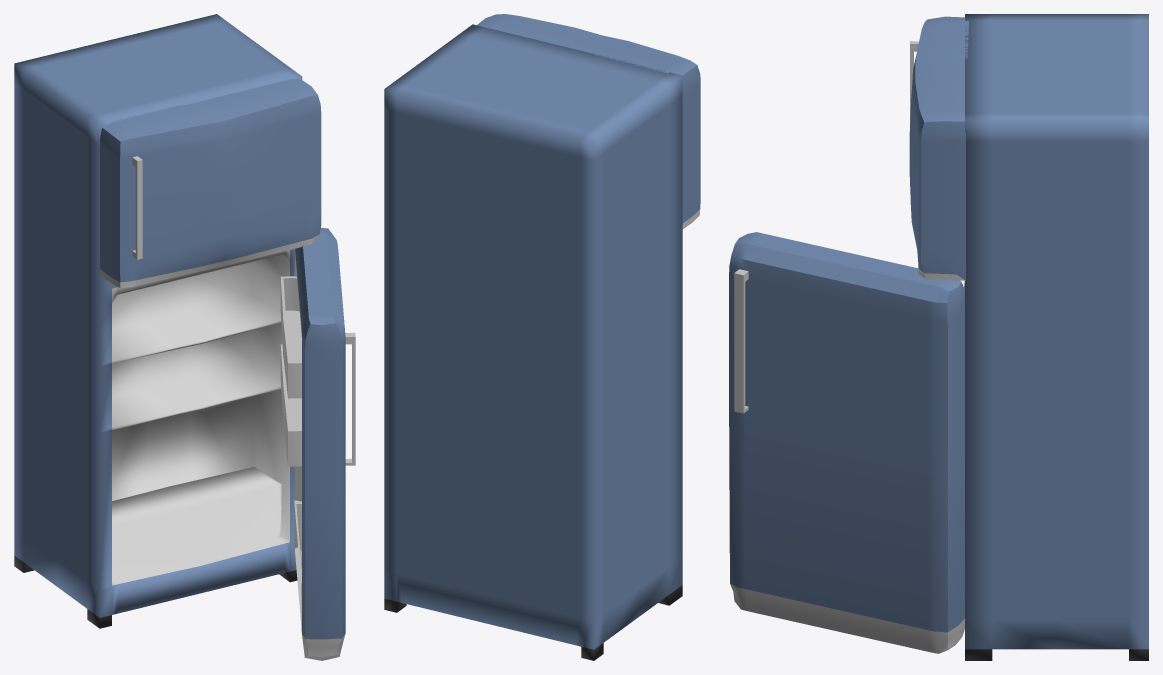
File: fridge_1.fbx
The picture shows the model from 3 angles, left to right: view 1: azimuth 30°, elevation 25°; view 2: azimuth 150°, elevation 25°; view 3: azimuth 270°, elevation 25°; orthographic projection. The views are drawn at different scales.
Visible parts, largest first — view 1: Top Drawer; view 2: Top Drawer; view 3: Top Drawer.
Part boxes in pixels (box(x1,y1,x2,y2)): Top Drawer: box(14, 14, 355, 660); Top Drawer: box(384, 14, 700, 660); Top Drawer: box(729, 14, 1148, 660).
Size of the model in its own units: 566 by 1198 by 843.
